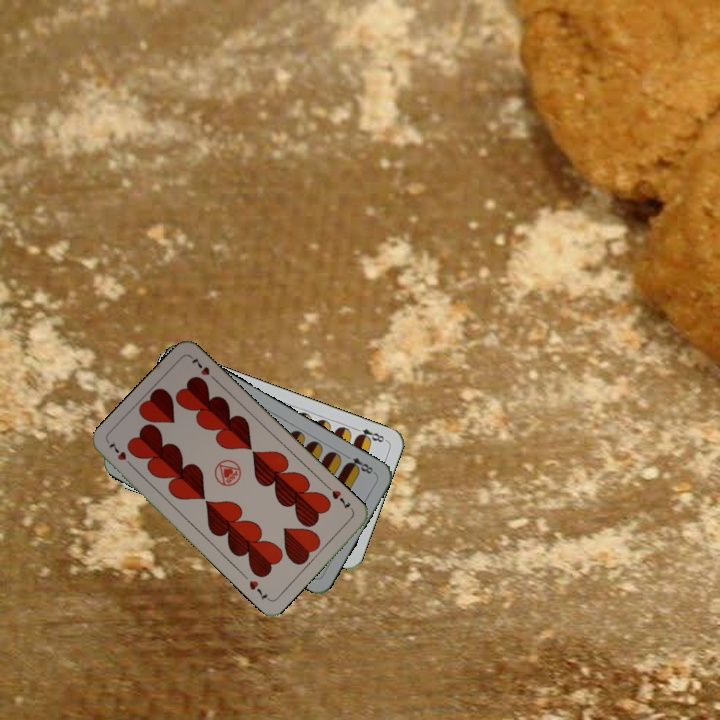E8: (341, 450, 378, 477), (350, 423, 389, 445)
H7: (104, 437, 136, 471), (328, 486, 353, 512)
